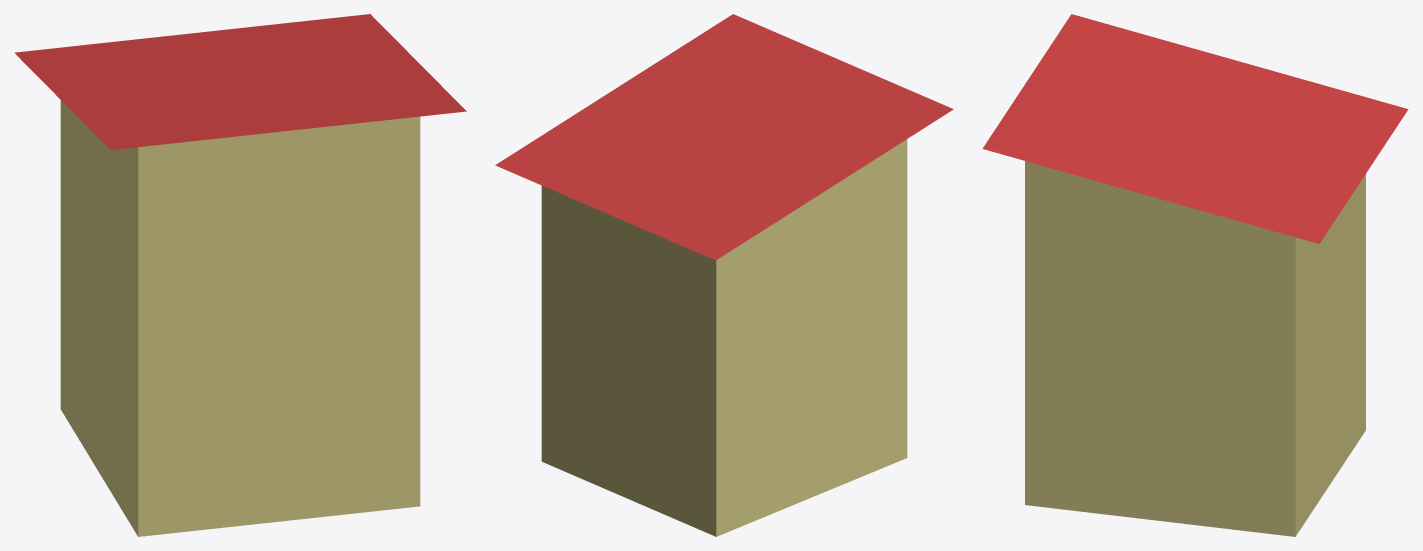
The picture shows the model from 3 angles, left to right: view 1: azimuth 30°, elevation 25°; view 2: azimuth 150°, elevation 25°; view 3: azimuth 270°, elevation 25°; orthographic projection. The views are drawn at different scales.
Size of the model in its own units: 5.98 by 6.17 by 5.85.
